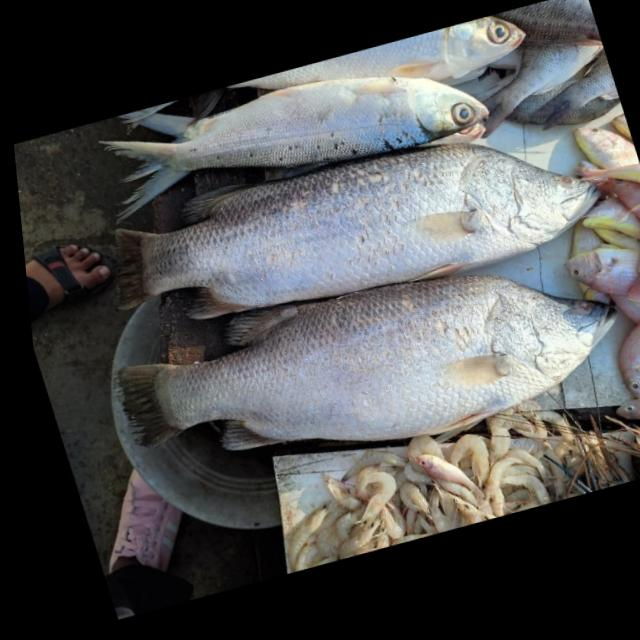Seabass: (90, 214, 640, 512), (73, 96, 622, 362)
